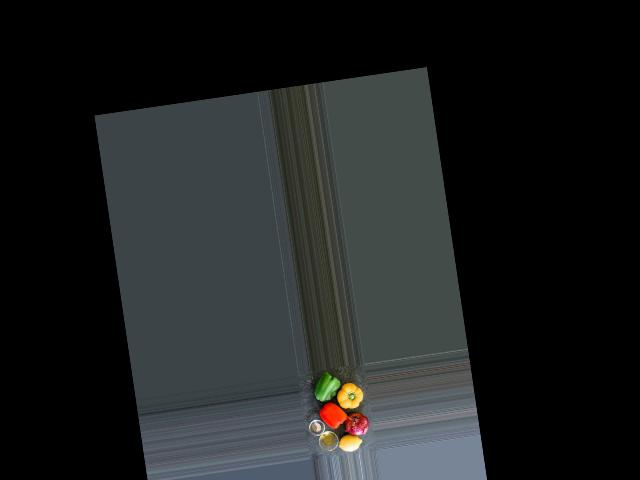bell_pepper: (317, 400, 349, 430)
